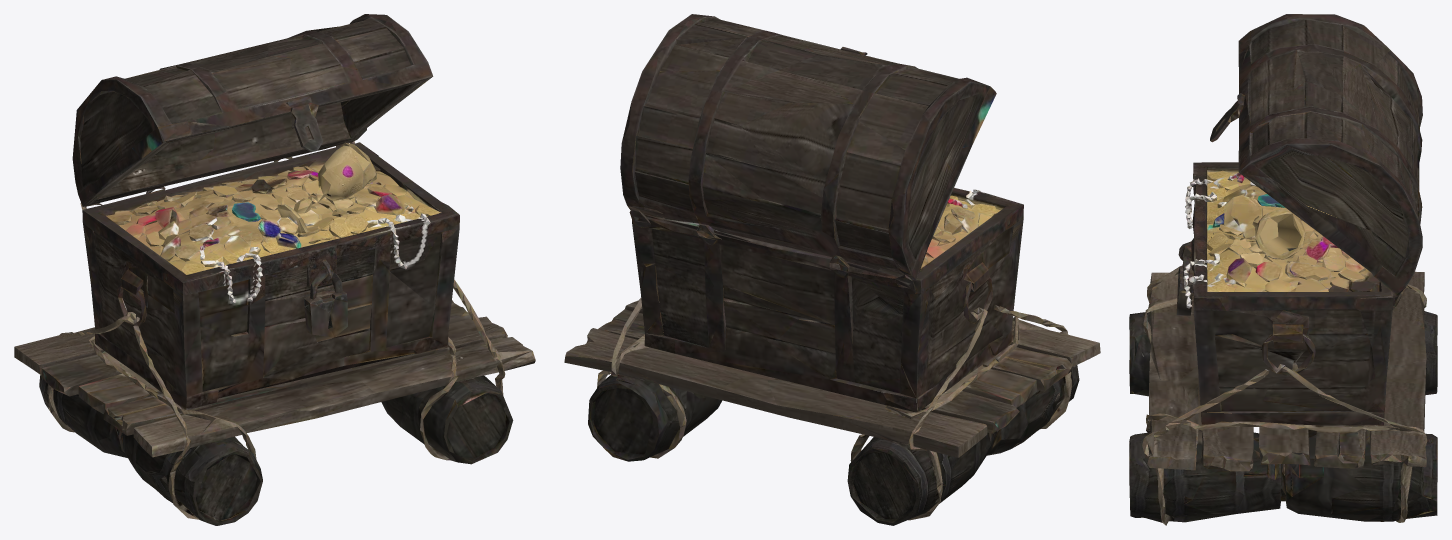
File: chest.glb
The picture shows the model from 3 angles, left to right: view 1: azimuth 30°, elevation 25°; view 2: azimuth 150°, elevation 25°; view 3: azimuth 270°, elevation 25°; orthographic projection. The views are drawn at different scales.
Visible parts, largest first — view 1: Mesh_0; view 2: Mesh_0; view 3: Mesh_0.
Boxes of the visible parts, bbox=[...] form: Mesh_0: bbox=[14, 14, 535, 525]; Mesh_0: bbox=[564, 14, 1100, 525]; Mesh_0: bbox=[1129, 14, 1437, 525].
Size of the model in its own units: 1.9 by 1.78 by 1.3.
Materials: 1 (1 with a texture image).
